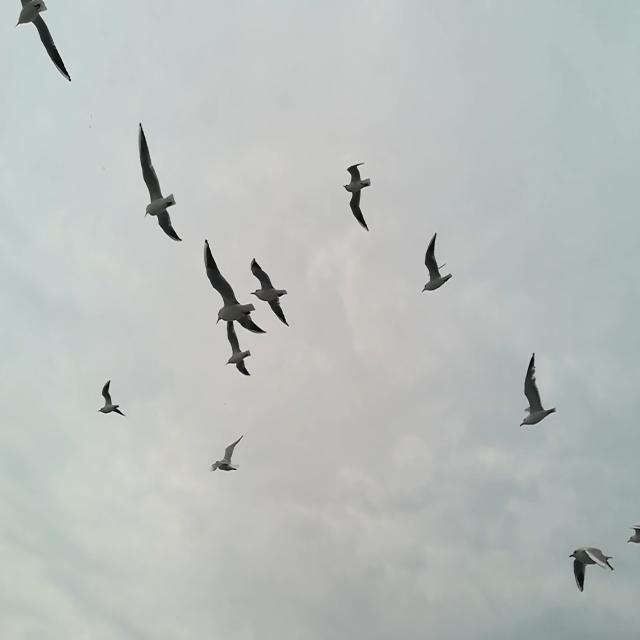bird: (203, 240, 269, 337), (136, 124, 183, 243), (12, 0, 73, 84), (518, 351, 556, 429), (249, 258, 290, 326), (570, 545, 616, 593), (344, 164, 374, 232), (422, 231, 453, 292), (226, 316, 253, 378), (211, 436, 245, 475), (99, 381, 127, 416), (627, 523, 640, 549)
